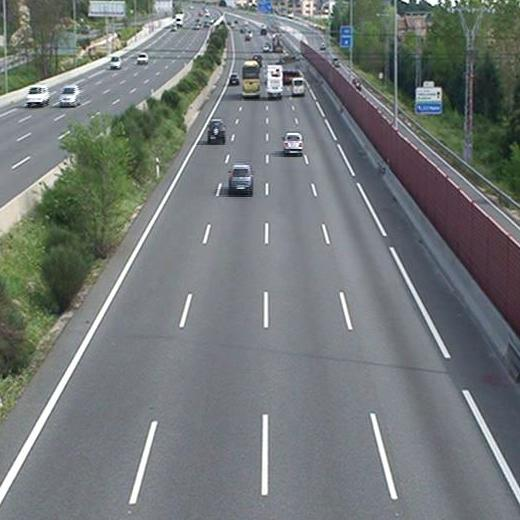bus: (242, 61, 262, 98)
car: (228, 166, 254, 194), (282, 133, 304, 155), (207, 119, 226, 144), (228, 74, 239, 86)
truck: (265, 64, 284, 98)
van: (291, 79, 305, 97)
